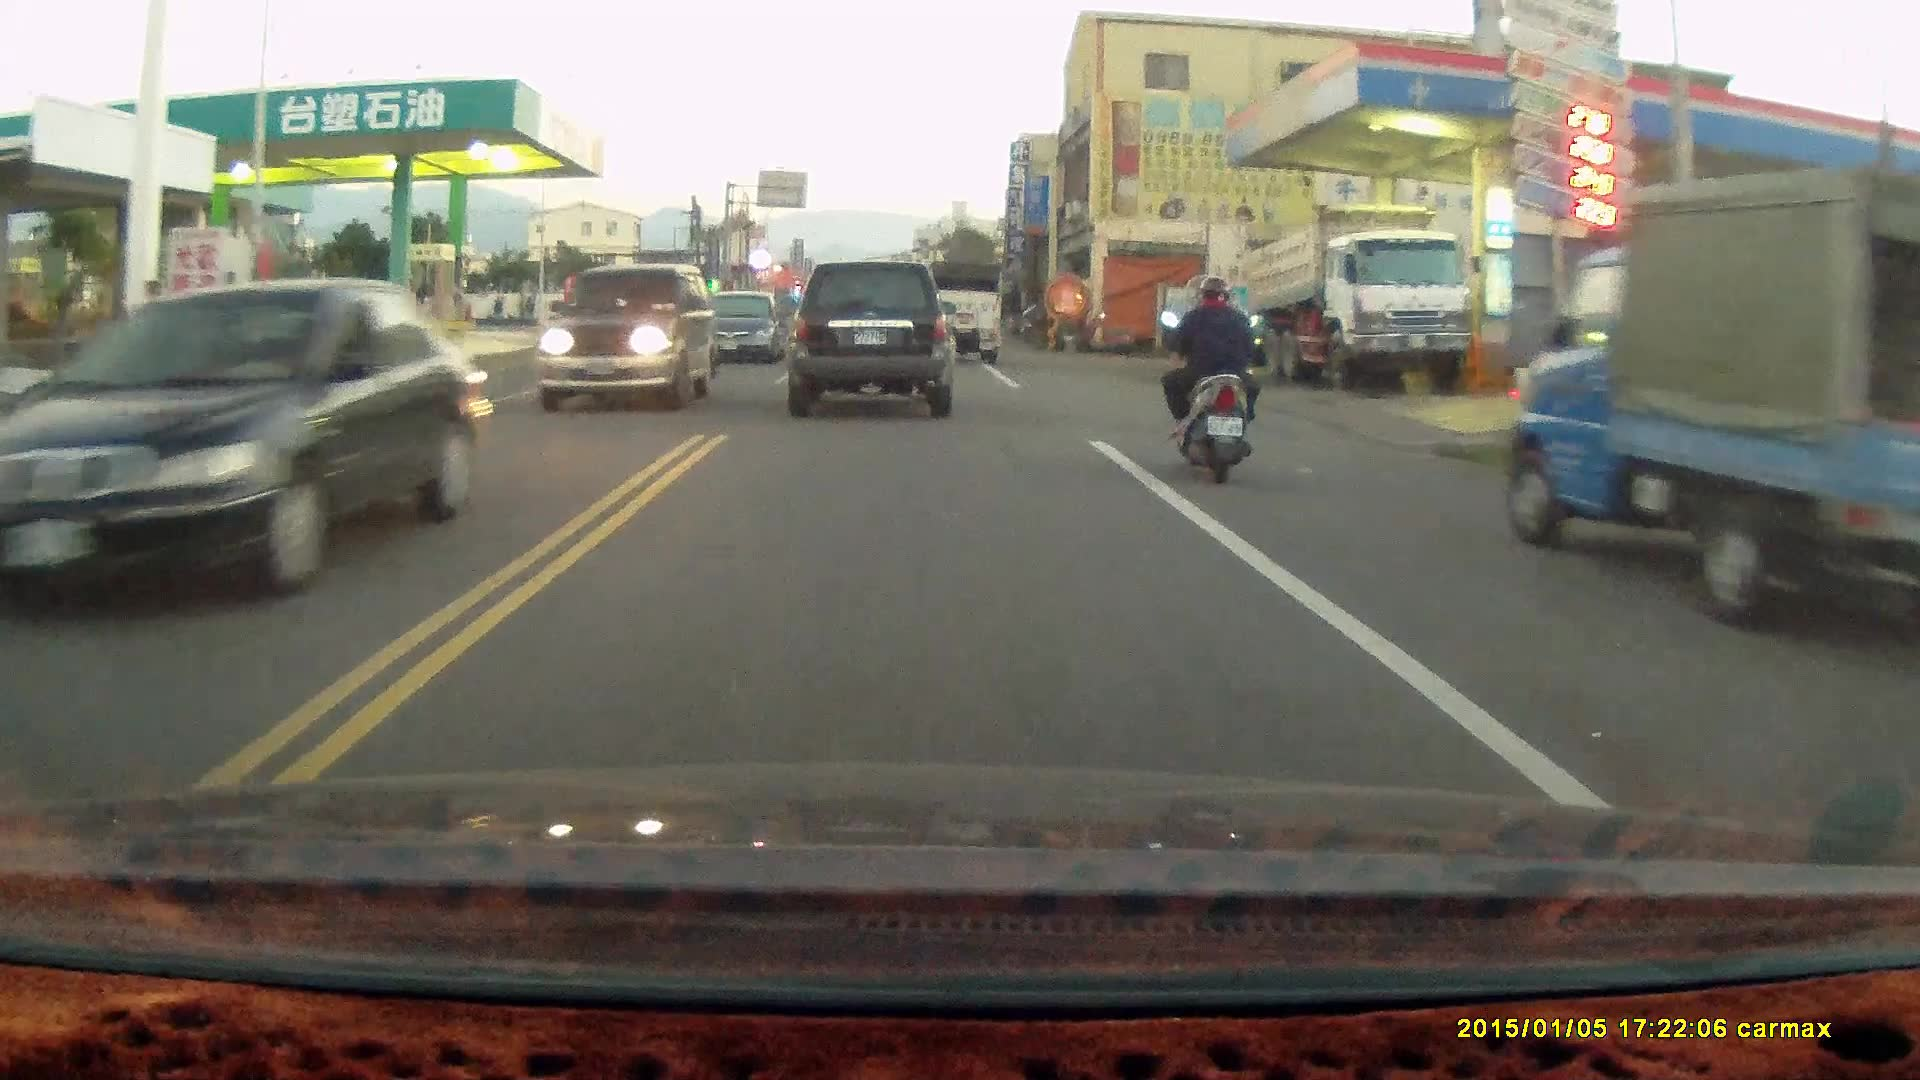rider: (1157, 275, 1264, 487)
vehicle: (1506, 166, 1920, 639), (1, 276, 485, 603), (1231, 193, 1472, 387), (539, 262, 715, 416), (789, 258, 955, 415), (914, 259, 1006, 366), (702, 292, 792, 364)
